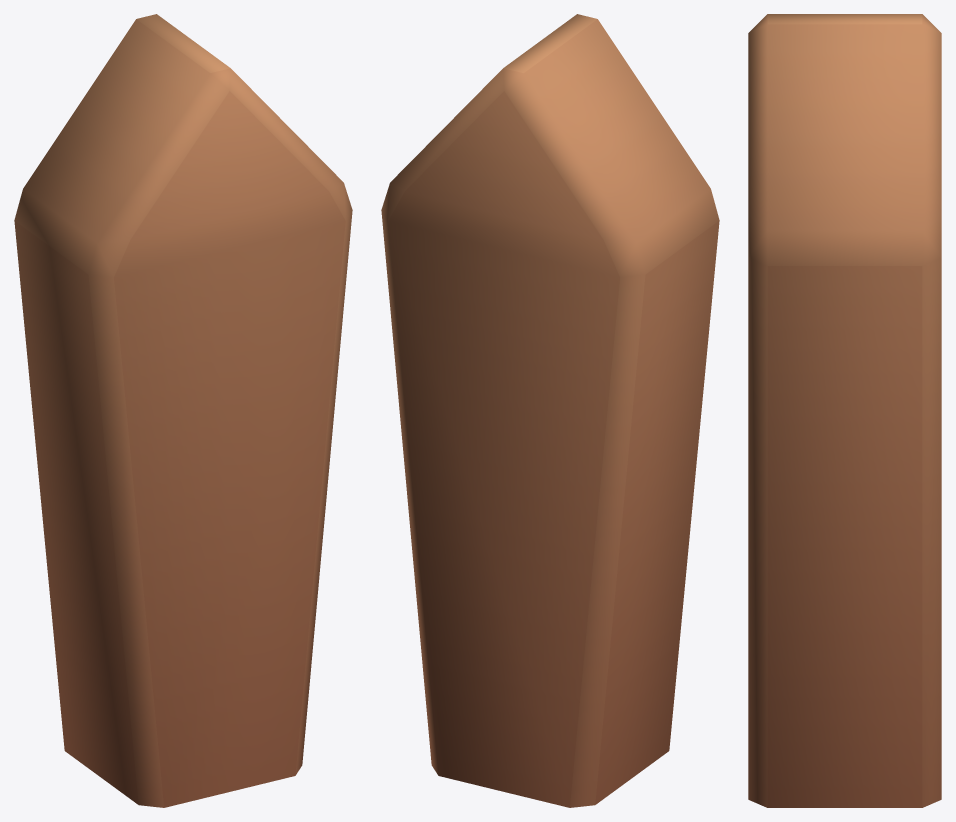
The model's file is Fence Post.glb.
3 views of the same model, side by side, from view 1: azimuth 30°, elevation 25°; view 2: azimuth 150°, elevation 25°; view 3: azimuth 270°, elevation 25° (orthographic). The views are drawn at different scales.
Parts seen in each view (by area): view 1: fence_post; view 2: fence_post; view 3: fence_post.
Part boxes in pixels (box(x1,y1,x2,y2)): fence_post: box(14, 14, 352, 807); fence_post: box(381, 14, 719, 807); fence_post: box(748, 14, 941, 807).
Size of the model in its own units: 0.494 by 1.28 by 0.3.
1 material, 1 textured.
